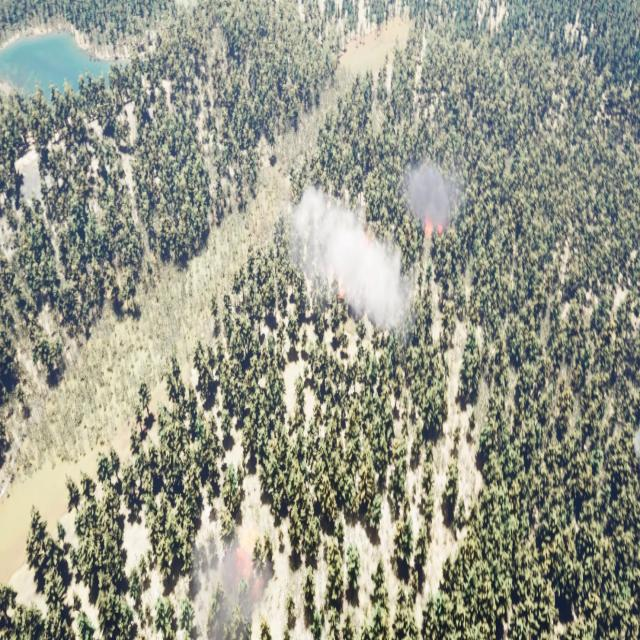smoke: (280, 178, 413, 340), (194, 536, 269, 639), (405, 154, 465, 246)
